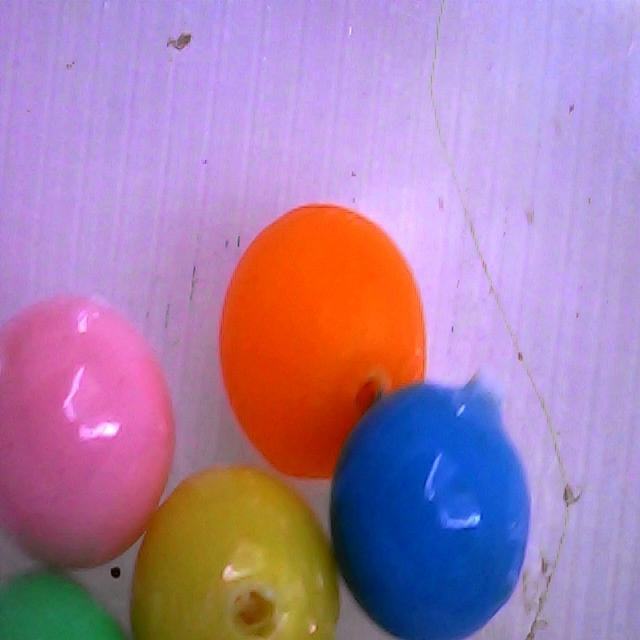beads: (150, 170, 479, 500), (329, 383, 533, 640), (0, 295, 174, 567), (130, 466, 340, 640)
